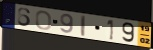1: (105, 19, 114, 41)
6: (17, 8, 32, 28)
9: (60, 13, 75, 35), (122, 22, 136, 43)
I: (80, 14, 86, 38)
O: (35, 10, 53, 31)
